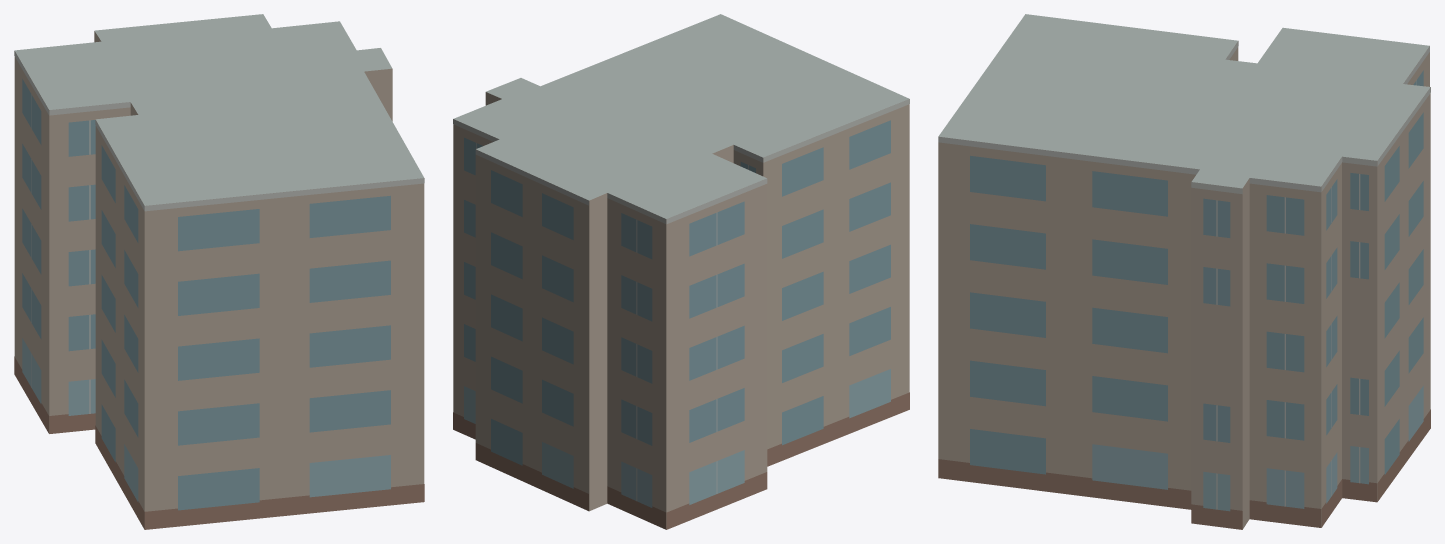
Rendered from survey-upis-32873954.glb.
The picture shows the model from 3 angles, left to right: view 1: azimuth 30°, elevation 25°; view 2: azimuth 150°, elevation 25°; view 3: azimuth 270°, elevation 25°; orthographic projection. The views are drawn at different scales.
Parts seen in each view (by area): view 1: survey-upis-32873954.tmp; view 2: survey-upis-32873954.tmp; view 3: survey-upis-32873954.tmp.
Boxes of the visible parts, x1=… form: survey-upis-32873954.tmp: x1=14, y1=14, x2=424, y2=529; survey-upis-32873954.tmp: x1=453, y1=14, x2=909, y2=529; survey-upis-32873954.tmp: x1=938, y1=14, x2=1430, y2=529.
Bounding box in the file's own units: 15.9 × 14.5 × 18.97.
